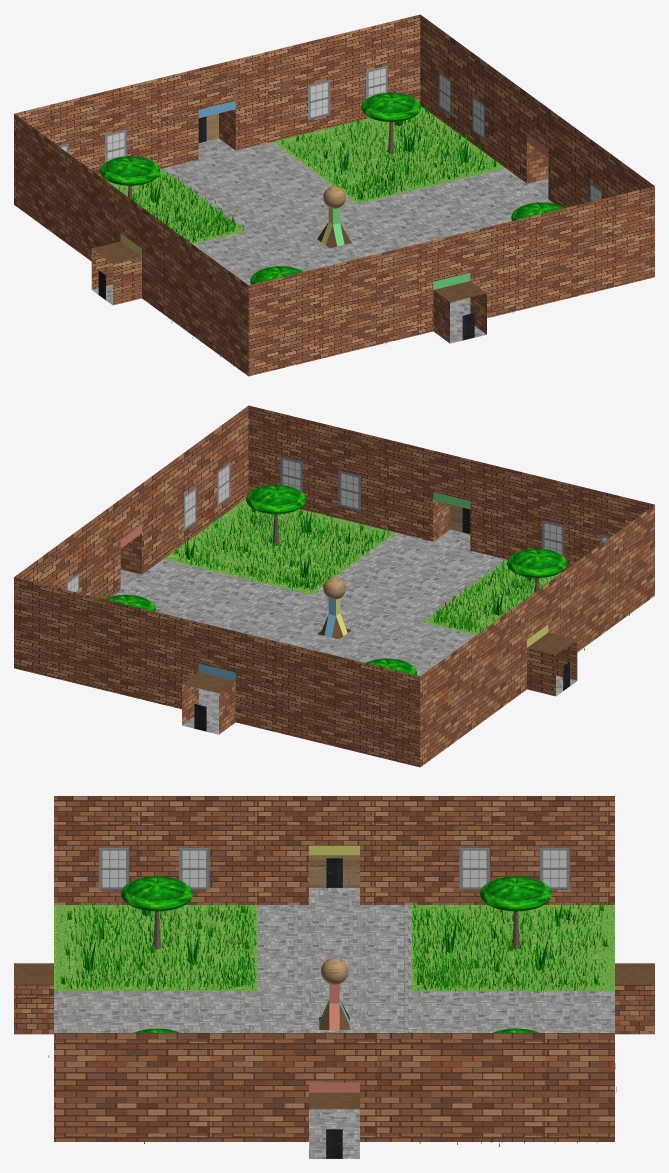
The model's file is main.glb.
The picture shows the model from 3 angles, top to bottom: view 1: azimuth 30°, elevation 25°; view 2: azimuth 150°, elevation 25°; view 3: azimuth 270°, elevation 25°; orthographic projection. The views are drawn at different scales.
Parts seen in each view (by area): view 1: Cube, single plane gras.011, blue, stem.002, stem, red, Cone-big.013, stem.003, stem.001; view 2: Cube, single plane gras.011, green, stem.003, stem.001, red, Cone-big.013; view 3: Cube, single plane gras.011, yellow, stem.001, stem, Cone-big.013.
Boxes of the visible parts, bbox=[...] form: Cube: bbox=[14, 14, 654, 376]; single plane gras.011: bbox=[49, 104, 513, 366]; blue: bbox=[58, 65, 387, 162]; stem.002: bbox=[361, 92, 421, 153]; stem: bbox=[100, 156, 160, 199]; red: bbox=[438, 71, 602, 201]; Cone-big.013: bbox=[150, 121, 564, 225]; stem.003: bbox=[511, 202, 564, 220]; stem.001: bbox=[250, 266, 303, 284]; Cube: bbox=[14, 405, 654, 767]; single plane gras.011: bbox=[98, 504, 629, 698]; green: bbox=[280, 456, 610, 555]; stem.003: bbox=[246, 485, 305, 545]; stem.001: bbox=[507, 548, 567, 591]; red: bbox=[66, 462, 230, 592]; Cone-big.013: bbox=[185, 509, 532, 615]; Cube: bbox=[14, 796, 654, 1158]; single plane gras.011: bbox=[48, 899, 616, 1146]; yellow: bbox=[99, 847, 569, 890]; stem.001: bbox=[121, 876, 192, 949]; stem: bbox=[480, 876, 551, 948]; Cone-big.013: bbox=[84, 905, 561, 971].
Size of the model in its own units: 160 by 30.43 by 160.
13 materials, 13 textured.
